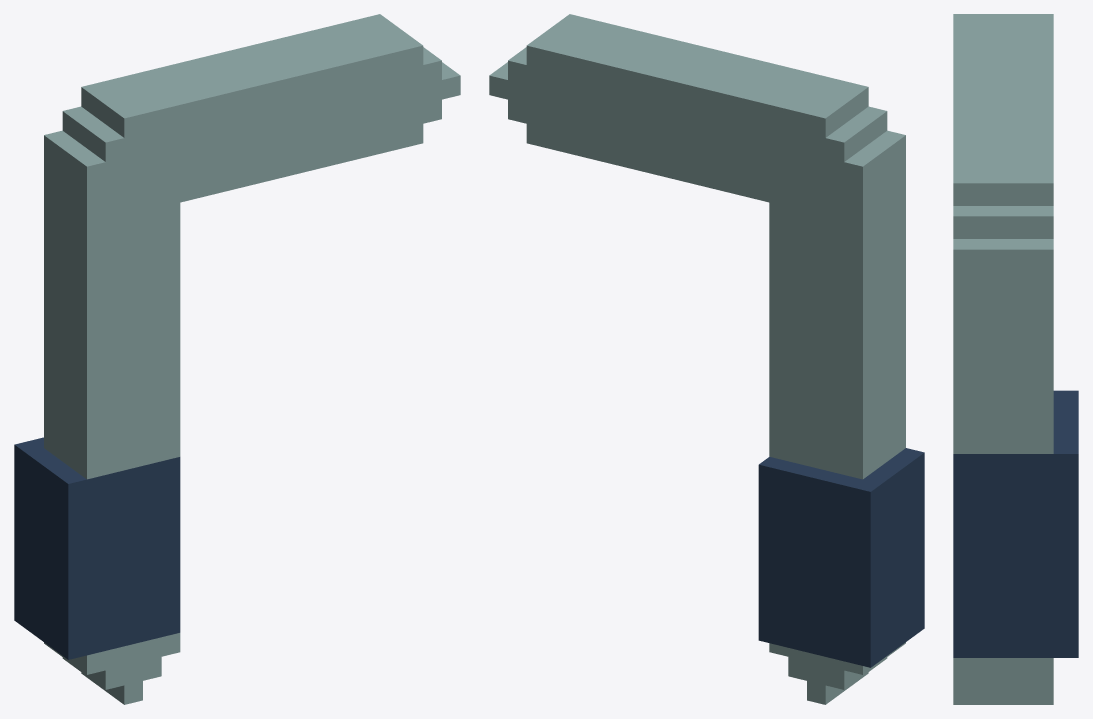
File: voxel_32_10014.glb
3 views of the same model, side by side, from view 1: azimuth 30°, elevation 25°; view 2: azimuth 150°, elevation 25°; view 3: azimuth 270°, elevation 25° (orthographic). The views are drawn at different scales.
Visible parts, largest first — view 1: prop_10014; view 2: prop_10014; view 3: prop_10014.
Boxes of the visible parts, x1,y1,x2,y2 form: prop_10014: (14, 14, 460, 704); prop_10014: (489, 14, 924, 704); prop_10014: (953, 14, 1078, 704).
Bounding box in the file's own units: 0.5447 × 0.7781 × 0.1297.
